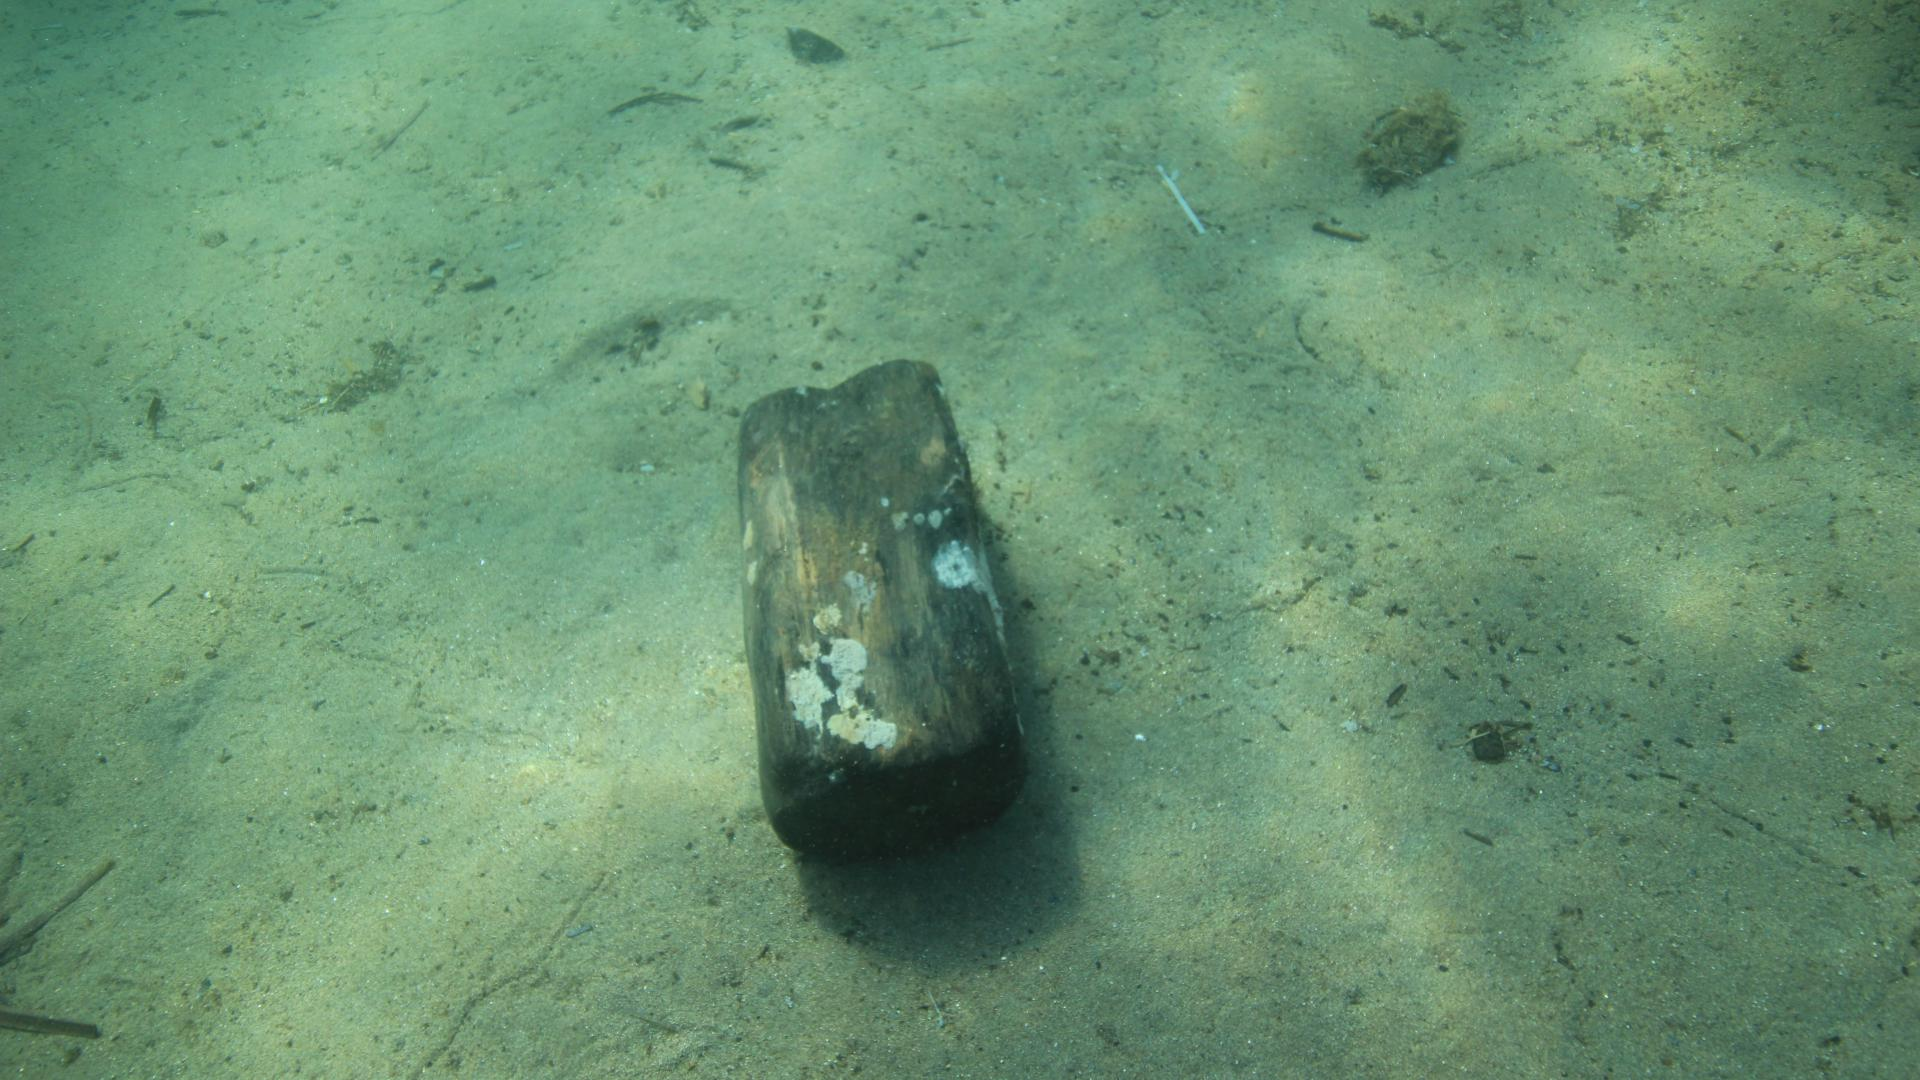wood: (736, 357, 1026, 856)
